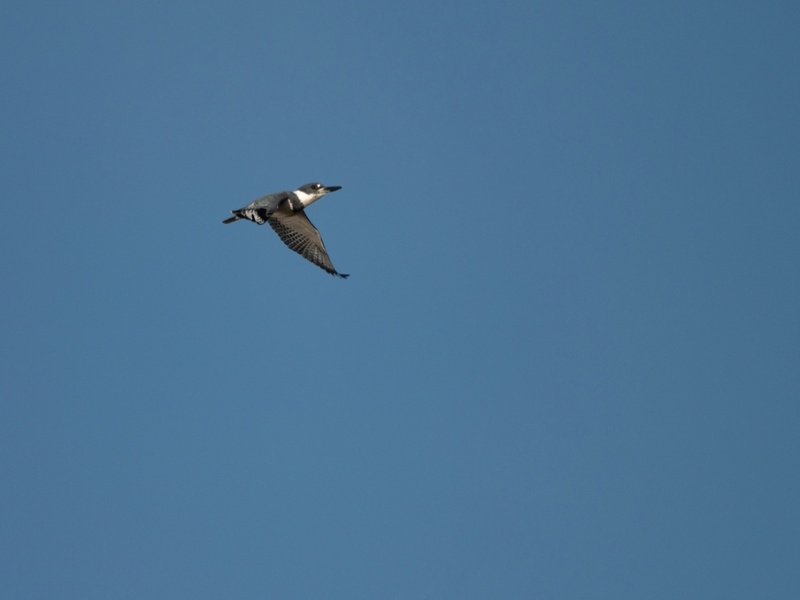kingfisher: (219, 178, 352, 282)
